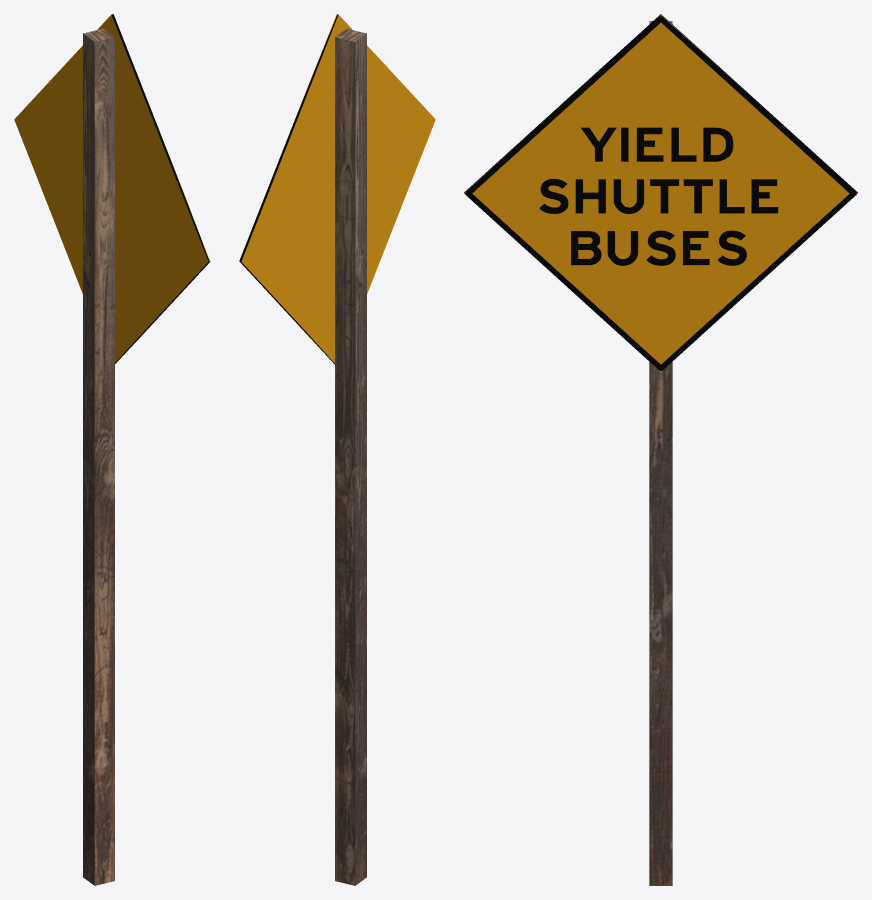
File: YOS_Sign_17.fbx
3 renders of one model, left to right at view 1: azimuth 30°, elevation 25°; view 2: azimuth 150°, elevation 25°; view 3: azimuth 270°, elevation 25°, orthographic.
Parts seen in each view (by area): view 1: WoodPost_2, Cube; view 2: WoodPost_2, Cube; view 3: Cube, WoodPost_2.
Part boxes in pixels (box(x1,y1,x2,y2)): WoodPost_2: box(83, 28, 114, 885); Cube: box(14, 14, 210, 364); WoodPost_2: box(335, 28, 366, 885); Cube: box(239, 14, 435, 364); Cube: box(464, 14, 857, 371); WoodPost_2: box(649, 21, 672, 885).
Bounding box in the file's own units: 6.11 × 204 × 83.49.
